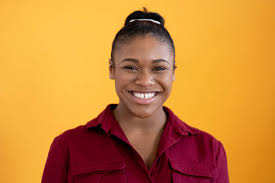person: (107, 9, 177, 119)
